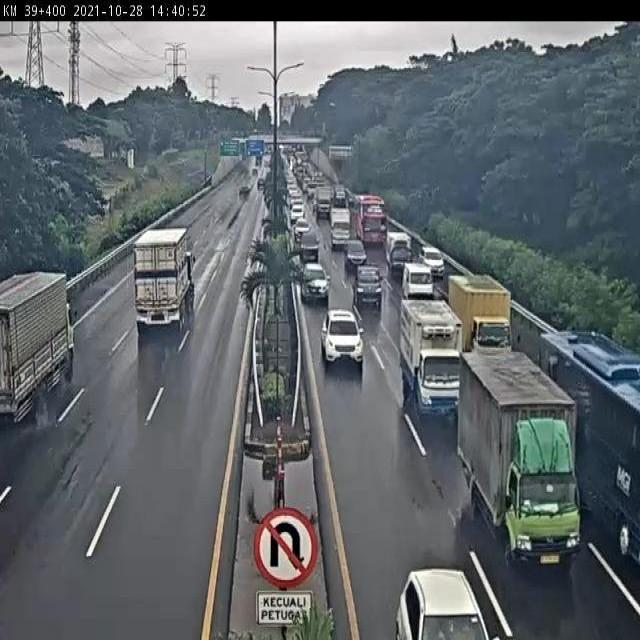big truck: (134, 225, 194, 331)
car: (321, 309, 366, 371), (402, 261, 437, 299), (301, 261, 330, 303), (354, 266, 384, 306), (418, 243, 447, 277), (345, 239, 367, 269)
truck-m-: (458, 348, 583, 569), (0, 269, 77, 423), (398, 297, 460, 412), (451, 274, 515, 349)
truck-s-: (385, 232, 411, 276)
